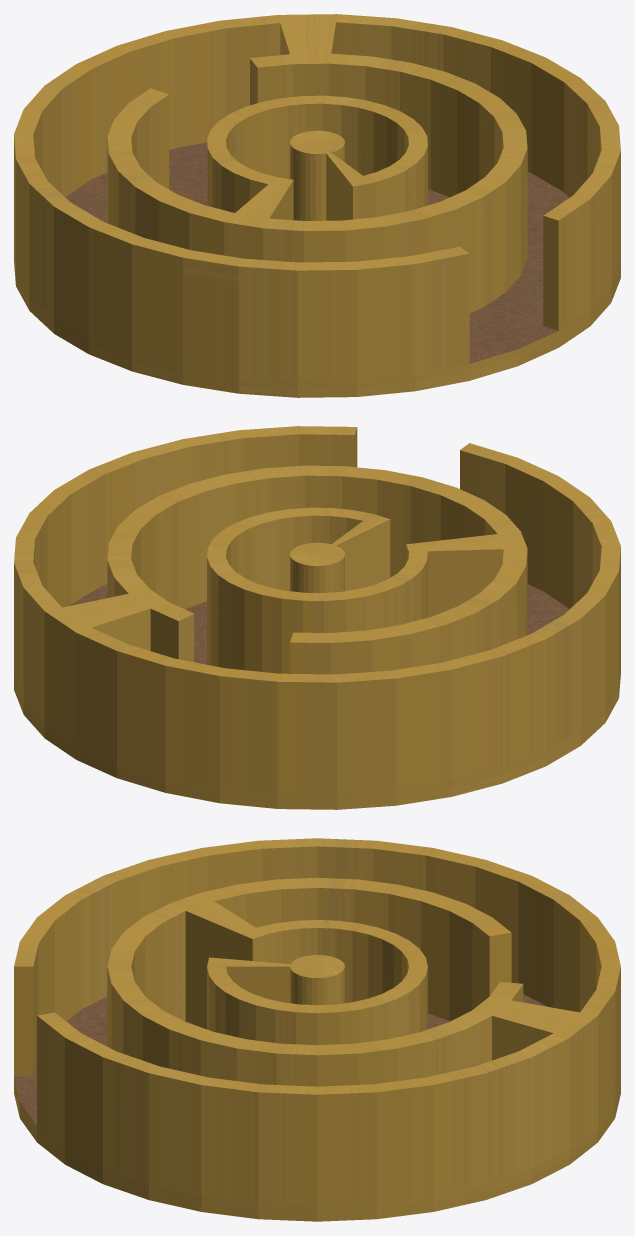
The model's file is easylockpickmaze.fbx.
The picture shows the model from 3 angles, top to bottom: view 1: azimuth 30°, elevation 25°; view 2: azimuth 150°, elevation 25°; view 3: azimuth 270°, elevation 25°; orthographic projection.
Parts seen in each view (by area): view 1: Cylinder; view 2: Cylinder; view 3: Cylinder.
Boxes of the visible parts, box(x1,y1,x2,y2) form: Cylinder: box(14, 14, 620, 397); Cylinder: box(14, 426, 620, 809); Cylinder: box(14, 838, 620, 1221).
Size of the model in its own units: 10000 by 2307 by 10000.
